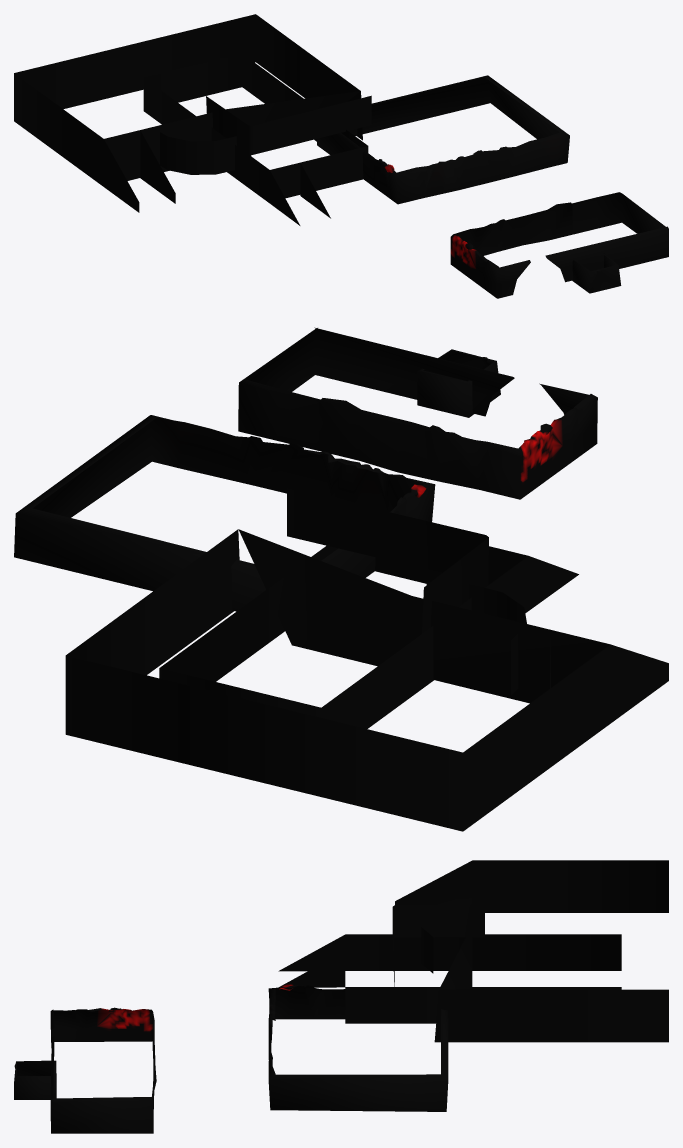
Rendered from Forest_building_056_09.fbx.
3 views of the same model, one above another, from view 1: azimuth 30°, elevation 25°; view 2: azimuth 150°, elevation 25°; view 3: azimuth 270°, elevation 25° (orthographic). The views are drawn at different scales.
Parts seen in each view (by area): view 1: Forest_building_056_09; view 2: Forest_building_056_09; view 3: Forest_building_056_09.
Part boxes in pixels (left/top/right/bottom): Forest_building_056_09: left=14, top=14, right=668, bottom=298; Forest_building_056_09: left=14, top=327, right=668, bottom=831; Forest_building_056_09: left=14, top=860, right=668, bottom=1133.
Bounding box in the file's own units: 3015 × 625 × 4171.
